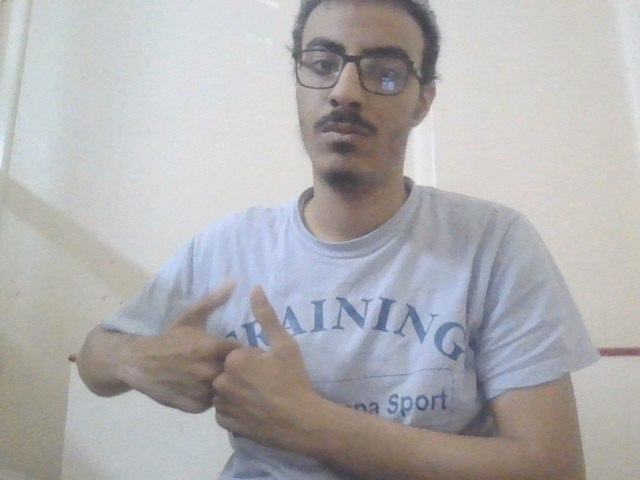Help: (118, 276, 337, 454)
